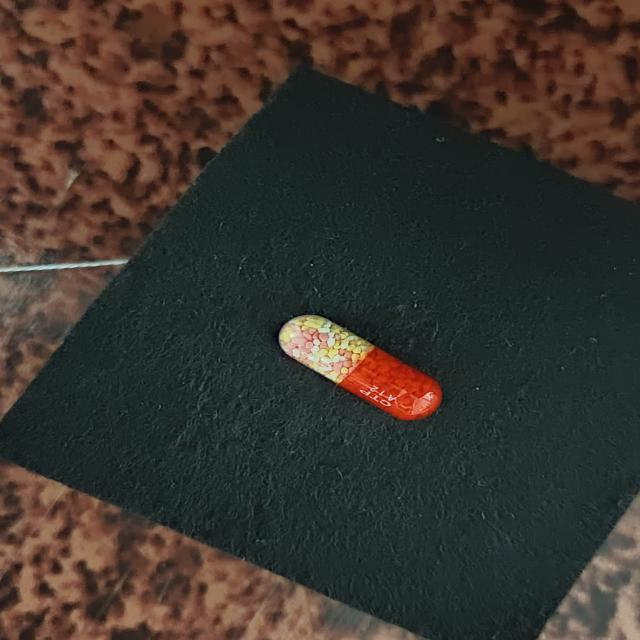Intact Capsule: (279, 315, 442, 421)
